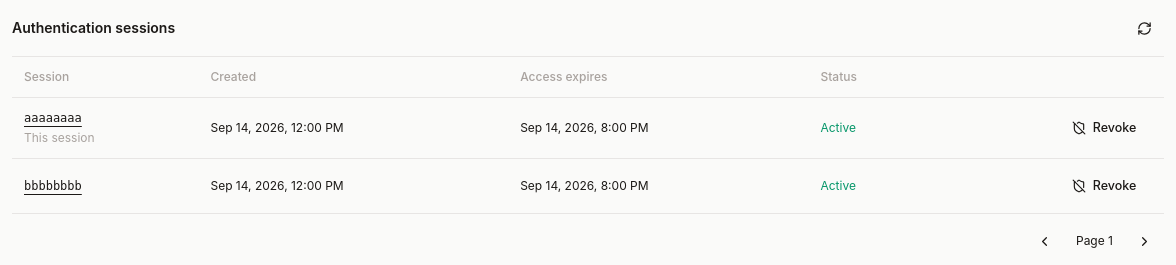
Test case: AgentSessions › confirms revocation and updates only the selected session
The image size is (1176, 265).
Click the button with aria-label "Revoke session aaaaaaaa".
click(1104, 128)  # box [1056, 113, 1152, 143]
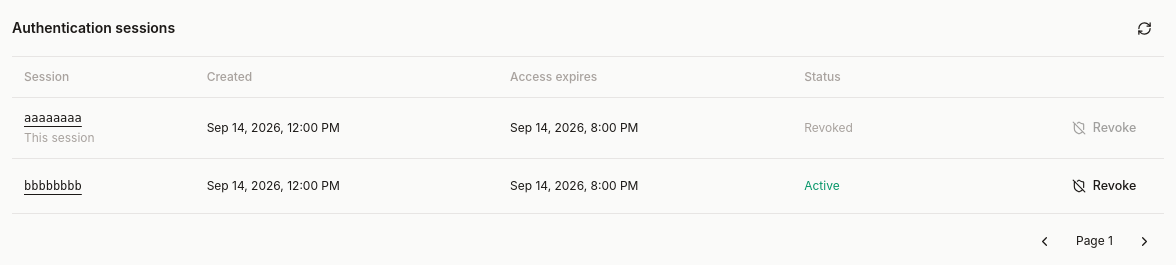
Expected: the text "Active" is shown, [804, 178, 840, 193]
Result: the text "Revoked" is shown at [804, 120, 853, 135]
Result: the button with aria-label "Revoke session aaaaaaaa" is disabled at [1056, 113, 1152, 143]
